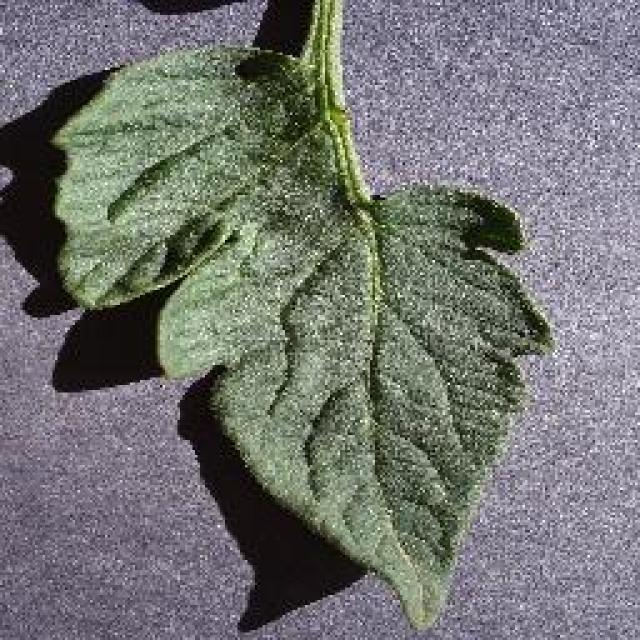Tomato___healthy: (46, 0, 557, 637)
